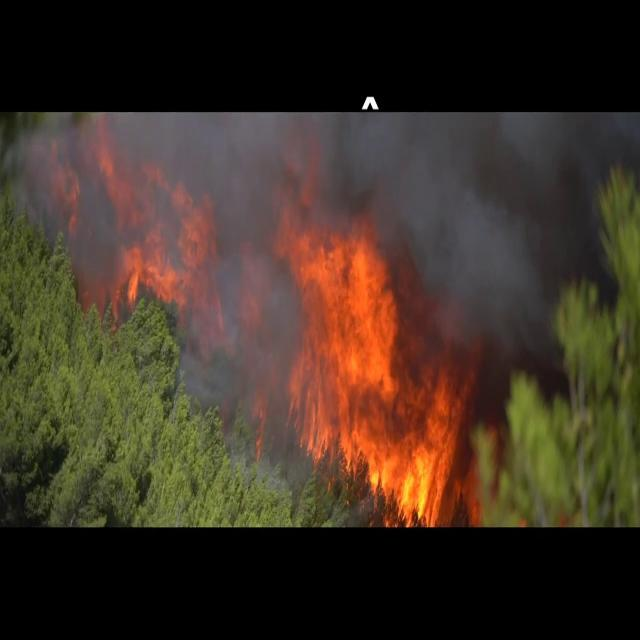Fire: (274, 205, 476, 522), (124, 168, 219, 326)
Smoke: (352, 110, 638, 403)
